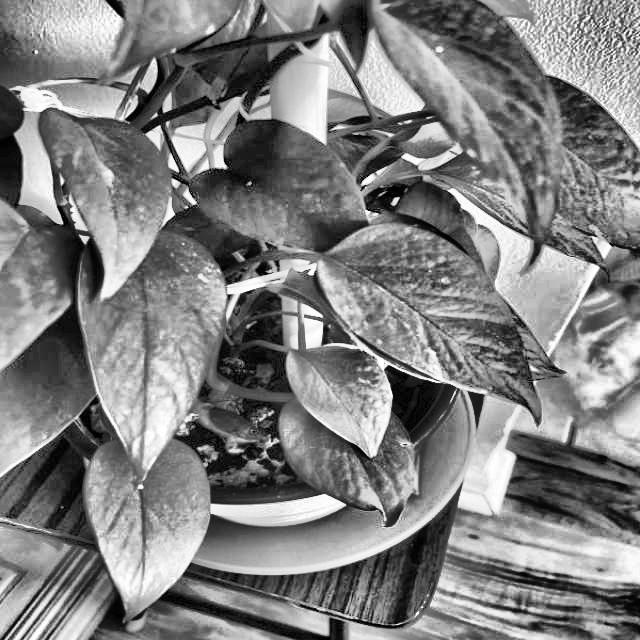plants: (24, 0, 568, 528)
